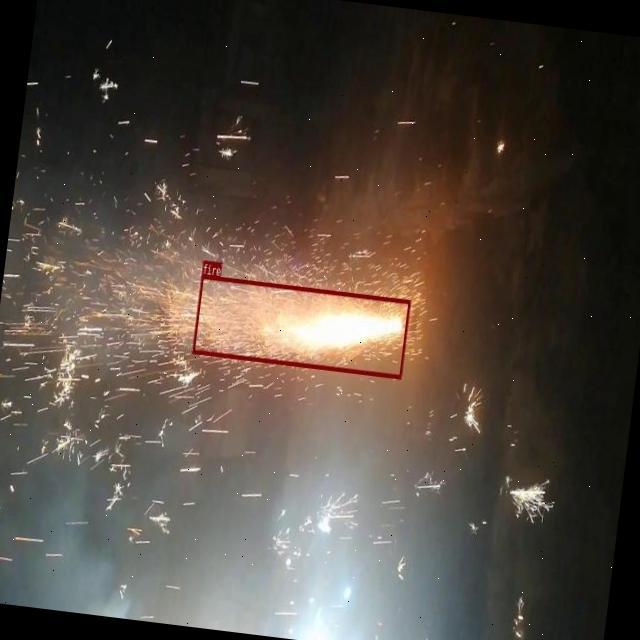fire: (191, 274, 410, 377)
